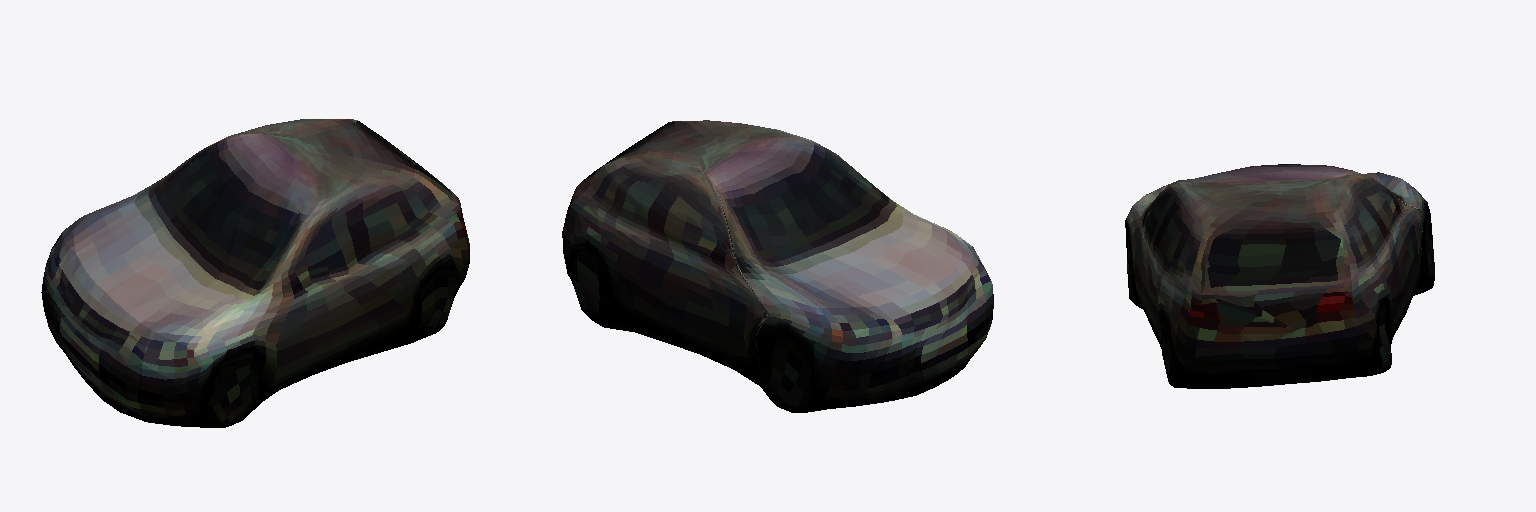
3 renders of one model, left to right at view 1: azimuth 30°, elevation 25°; view 2: azimuth 150°, elevation 25°; view 3: azimuth 270°, elevation 25°, orthographic.
Size of the model in its own units: 1 by 0.5145 by 0.7487.
1 materials, 1 textured.